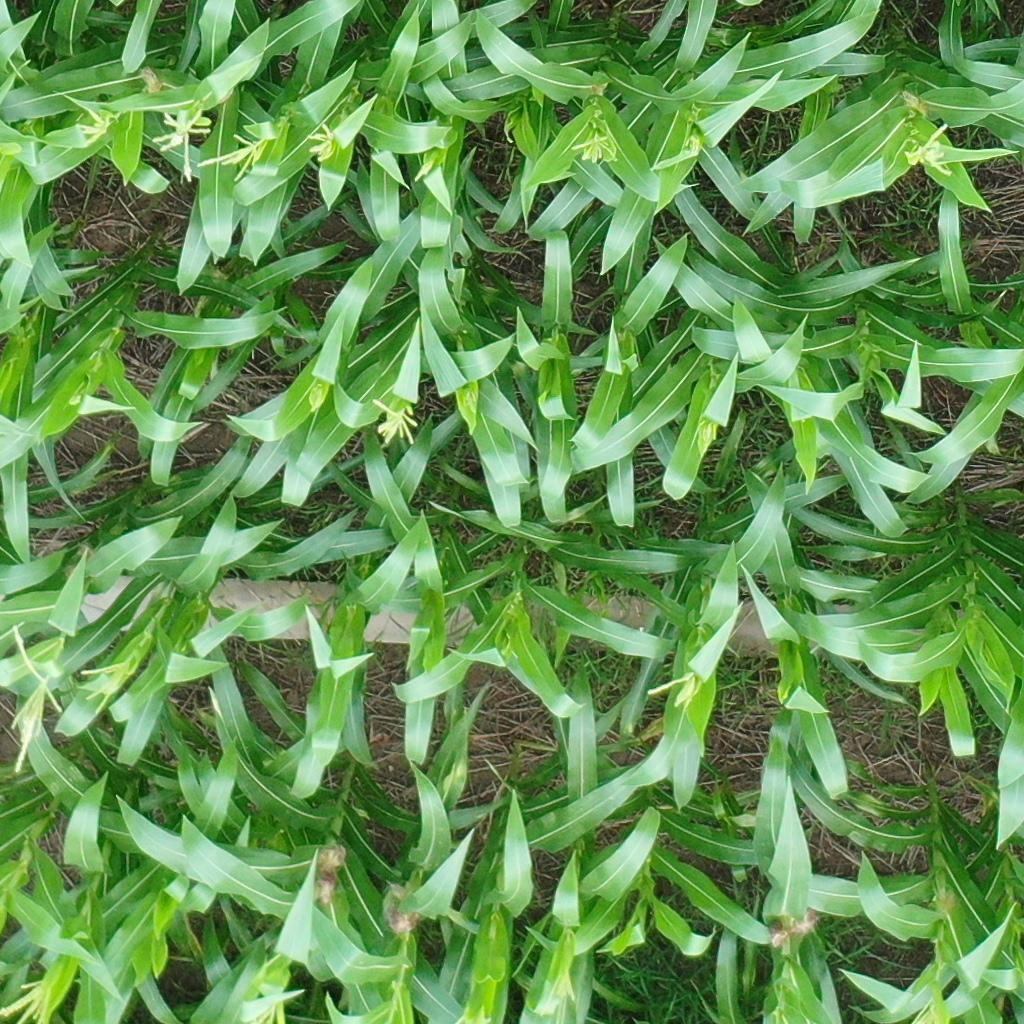Tassel: (2, 623, 65, 778), (144, 102, 211, 182), (79, 657, 138, 715), (364, 391, 423, 448), (198, 131, 267, 179), (903, 118, 957, 177), (646, 668, 702, 709), (567, 129, 619, 166), (73, 97, 109, 147), (304, 119, 340, 159), (696, 412, 723, 444), (678, 132, 705, 162), (460, 388, 484, 413), (413, 162, 438, 183)
